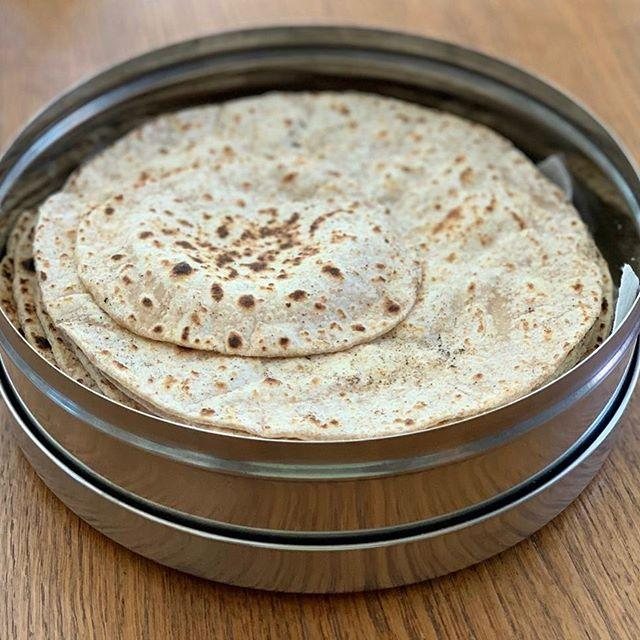Roti: (45, 120, 608, 438), (80, 197, 422, 348)
